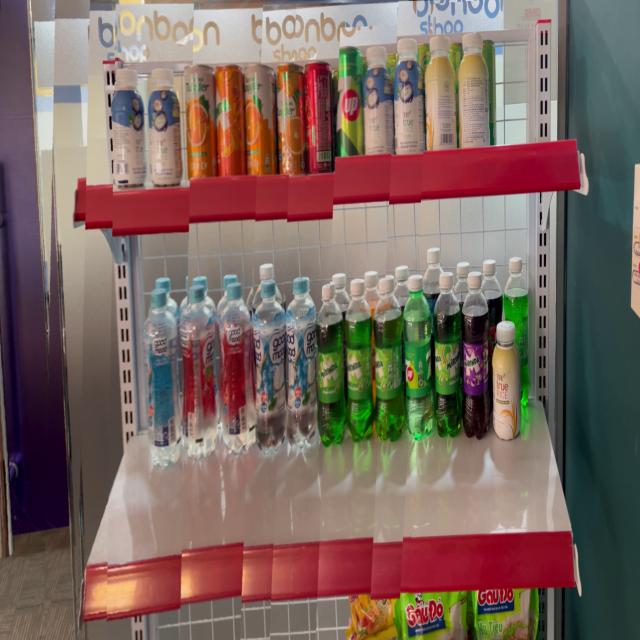SPVB: (144, 288, 182, 467), (285, 278, 319, 457), (220, 282, 255, 454), (184, 282, 218, 457), (256, 280, 289, 450), (435, 270, 464, 448), (376, 274, 405, 442), (464, 268, 492, 442), (407, 274, 435, 443), (319, 280, 345, 451), (348, 278, 373, 443), (304, 58, 336, 178), (184, 65, 216, 184), (216, 64, 246, 178), (336, 46, 366, 157), (246, 61, 273, 177), (278, 59, 304, 178)
Splitline: (77, 530, 573, 622), (76, 147, 579, 225)
TH: (146, 66, 182, 187), (111, 70, 145, 186), (458, 34, 491, 153), (395, 33, 426, 155), (427, 35, 458, 156), (364, 42, 394, 161), (493, 318, 521, 439)
